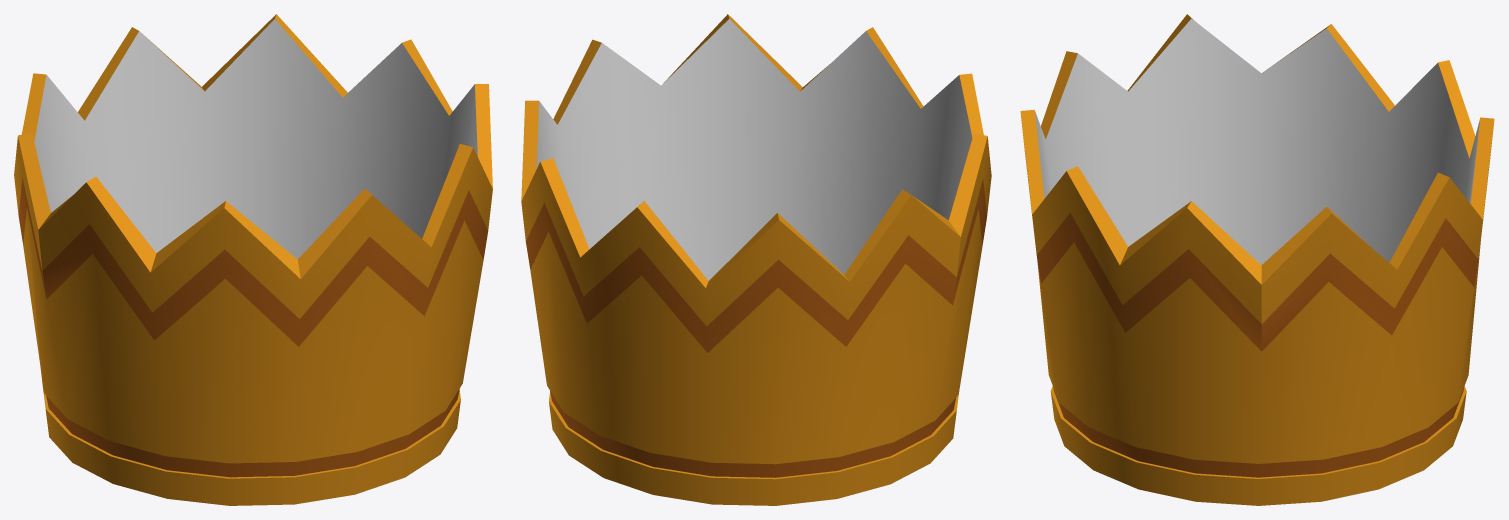
The model's file is crown.fbx.
3 renders of one model, left to right at view 1: azimuth 30°, elevation 25°; view 2: azimuth 150°, elevation 25°; view 3: azimuth 270°, elevation 25°, orthographic.
Visible parts, largest first — view 1: Crown; view 2: Crown; view 3: Crown.
Boxes of the visible parts, x1,y1,x2,y2 form: Crown: (14,14,492,505); Crown: (521,14,991,505); Crown: (1020,14,1494,505).
Size of the model in its own units: 68.43 by 48.47 by 67.22.
